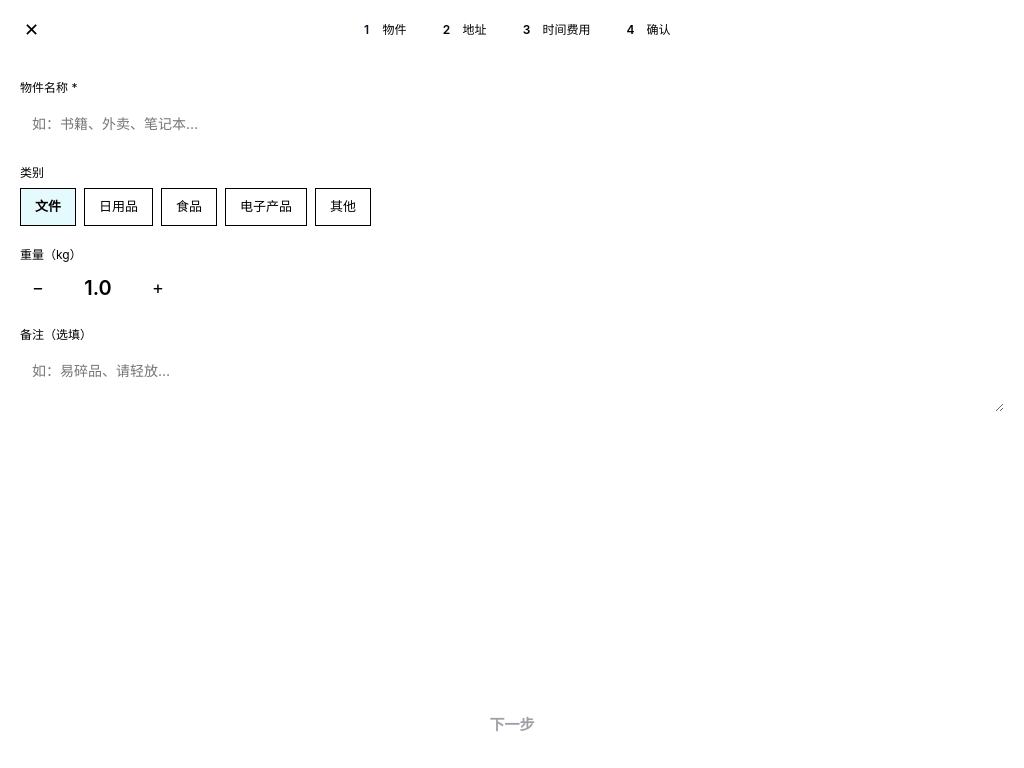
Scenario: WizardShell › cannot advance from step 2 without addresses
The width and height of the screenshot is (1024, 768).
Type "书籍" into the field with test id "item-name" at [512, 124], box [20, 103, 1004, 144]
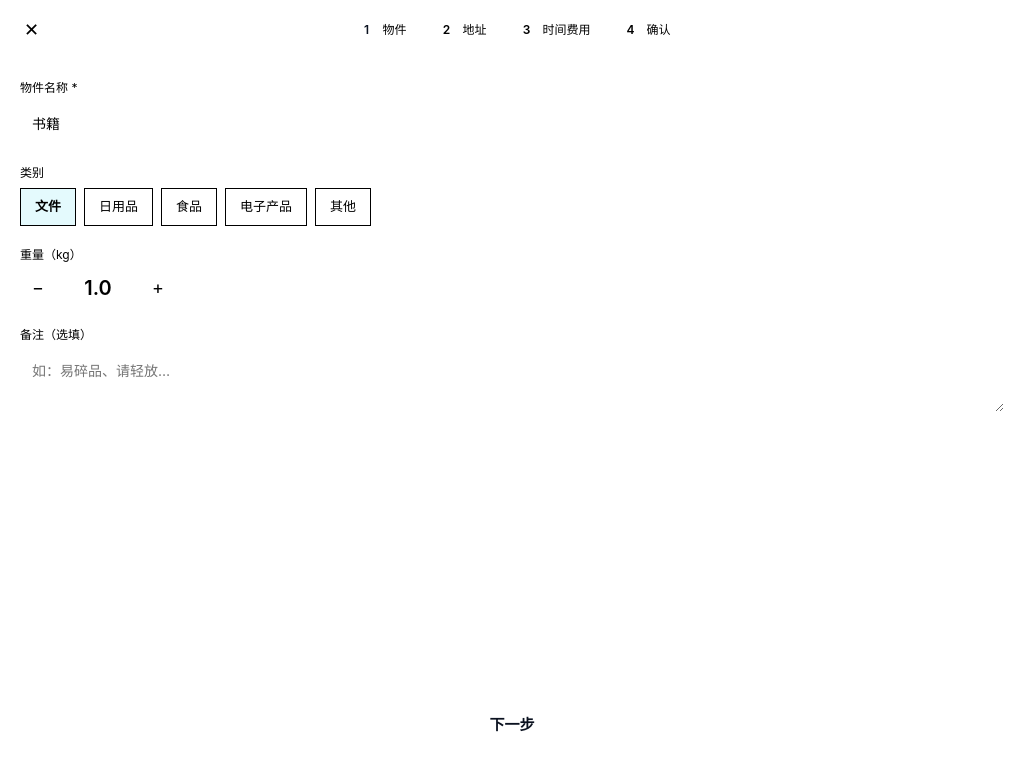
Click the button with test id "wizard-next" at [512, 725], box [20, 702, 1004, 748]
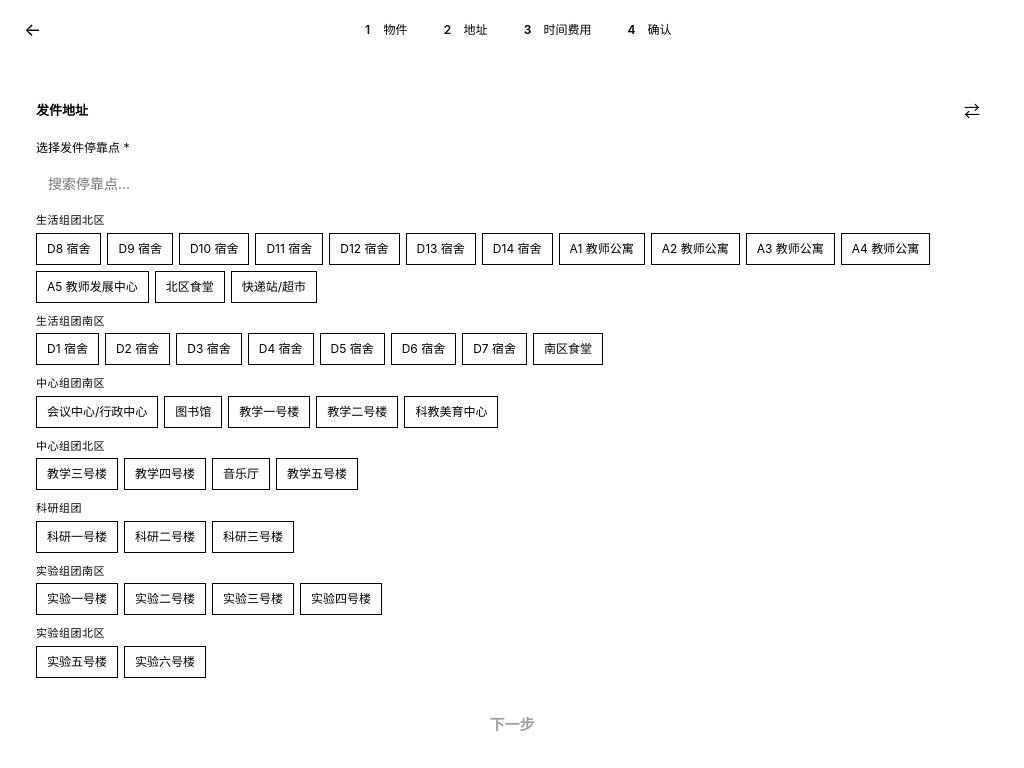
Expected: the button with test id "wizard-next" is disabled, [20, 702, 1004, 748]
